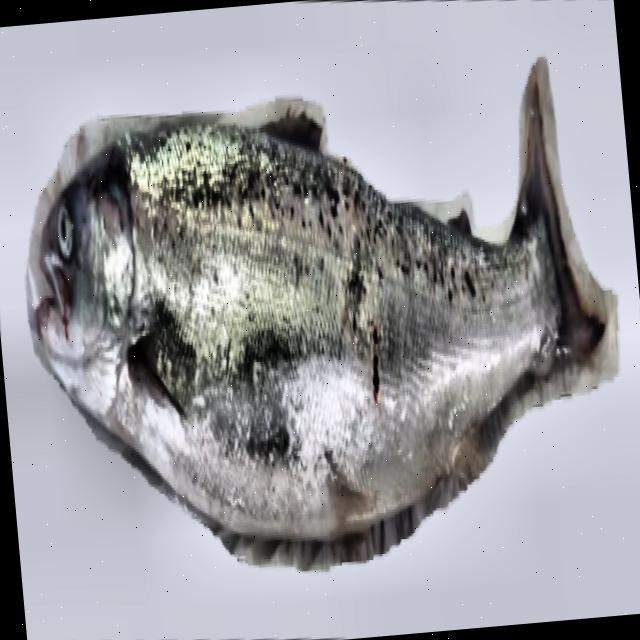mild_red: (124, 126, 560, 537)
